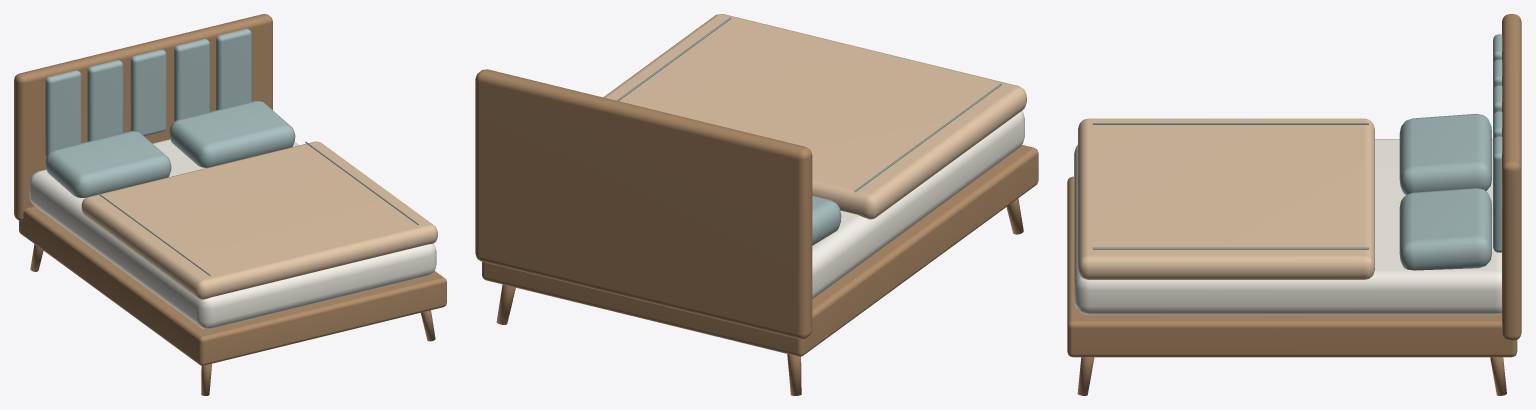
Rendered from atelier-queen-bed.glb.
The picture shows the model from 3 angles, left to right: view 1: azimuth 30°, elevation 25°; view 2: azimuth 150°, elevation 25°; view 3: azimuth 270°, elevation 25°; orthographic projection. The views are drawn at different scales.
Parts seen in each view (by area): view 1: bedding.002, legs.025, fabric.028, ceramic.002, seams.027; view 2: legs.025, bedding.002, ceramic.002, fabric.028, seams.027; view 3: bedding.002, legs.025, ceramic.002, fabric.028, seams.027.
Part boxes in pixels (x1=…): bedding.002: x1=81, y1=141, x2=437, y2=299; legs.025: x1=14, y1=14, x2=446, y2=395; fabric.028: x1=45, y1=28, x2=295, y2=197; ceramic.002: x1=29, y1=139, x2=436, y2=329; seams.027: x1=97, y1=141, x2=418, y2=275; legs.025: x1=475, y1=69, x2=1038, y2=395; bedding.002: x1=603, y1=14, x2=1026, y2=219; ceramic.002: x1=812, y1=110, x2=1024, y2=298; fabric.028: x1=812, y1=195, x2=841, y2=245; seams.027: x1=617, y1=17, x2=1001, y2=192; bedding.002: x1=1078, y1=118, x2=1374, y2=279; legs.025: x1=1067, y1=14, x2=1521, y2=395; ceramic.002: x1=1074, y1=139, x2=1501, y2=315; fabric.028: x1=1399, y1=34, x2=1502, y2=270; seams.027: x1=1092, y1=123, x2=1368, y2=249.
Size of the model in its own units: 1.65 by 1.2 by 2.07.
